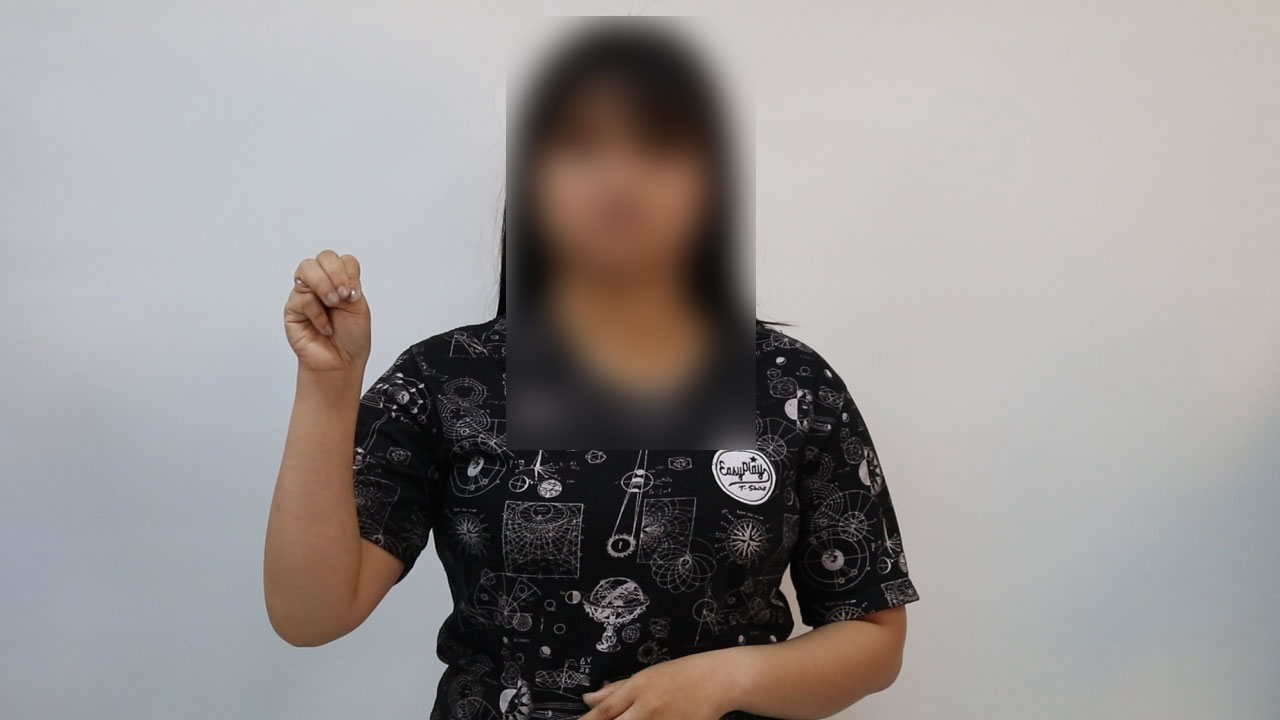mor: (272, 235, 383, 391)
